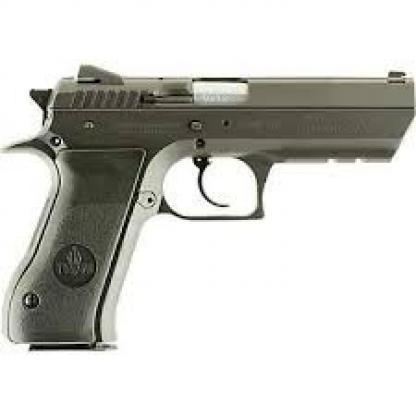Pistol: (0, 62, 416, 353)
